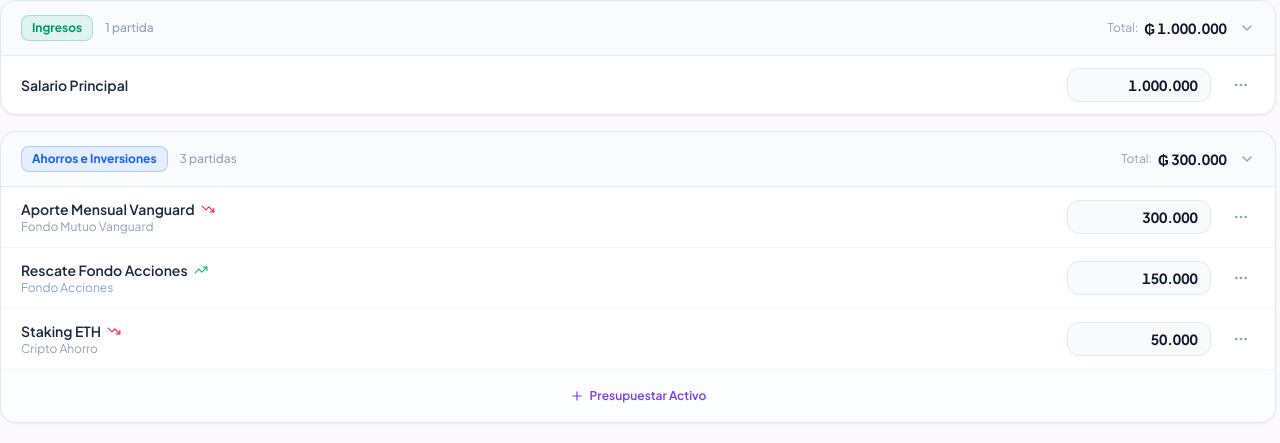
Test: BudgetMatrixGrid Options Menu & Nature Editing › Monthly View Mode › renders direction icons and options menu with nature editing and replicate option
Expected: the text "Aporte Mensual Vanguard" is shown, [21,199,194,219]
Note: Click second action button (Aporte Mensual Vanguard)
Click the button titled "Acciones" in the row of "Aporte Mensual Vanguard" at (1241,217), box [1227,203,1255,231]
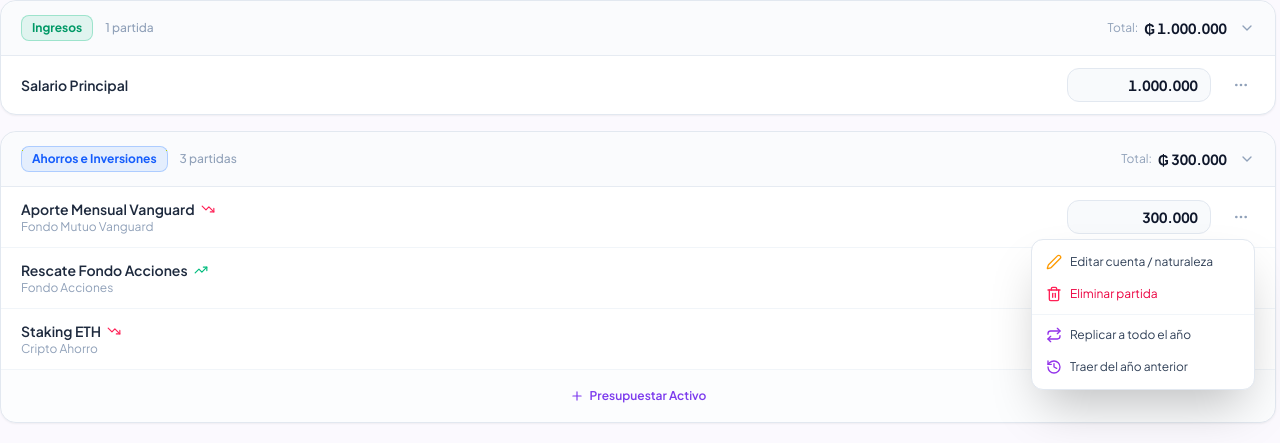
Now the text "Editar cuenta / naturaleza" is shown, box [1070,254,1213,270]
Now the text "Eliminar partida" is shown, box [1070,286,1158,302]
Now the text "Replicar a todo el año" is shown, box [1070,327,1191,343]
